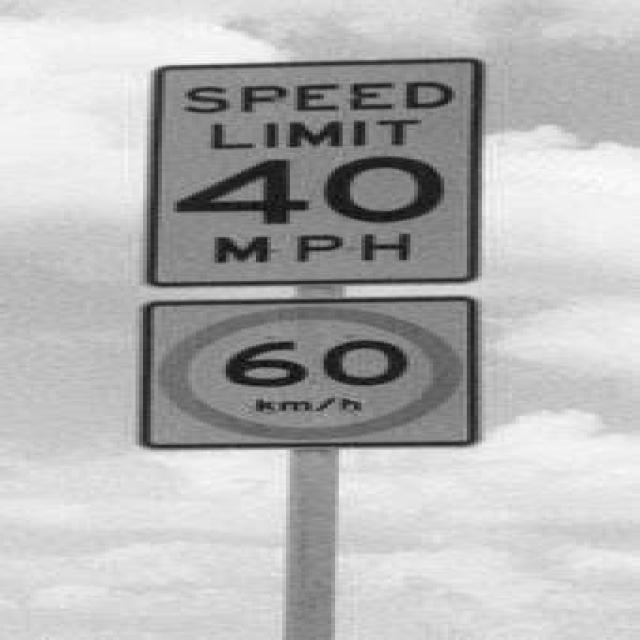speedLimit40: (152, 54, 484, 295)
